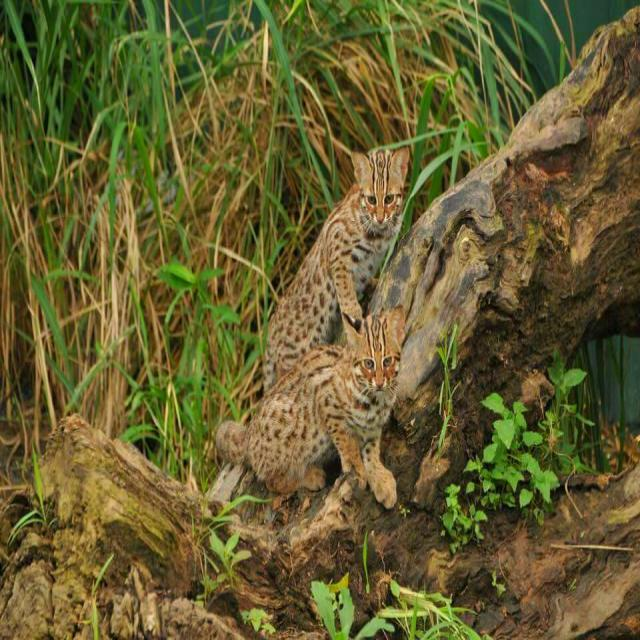leopard: (247, 180, 471, 546)
